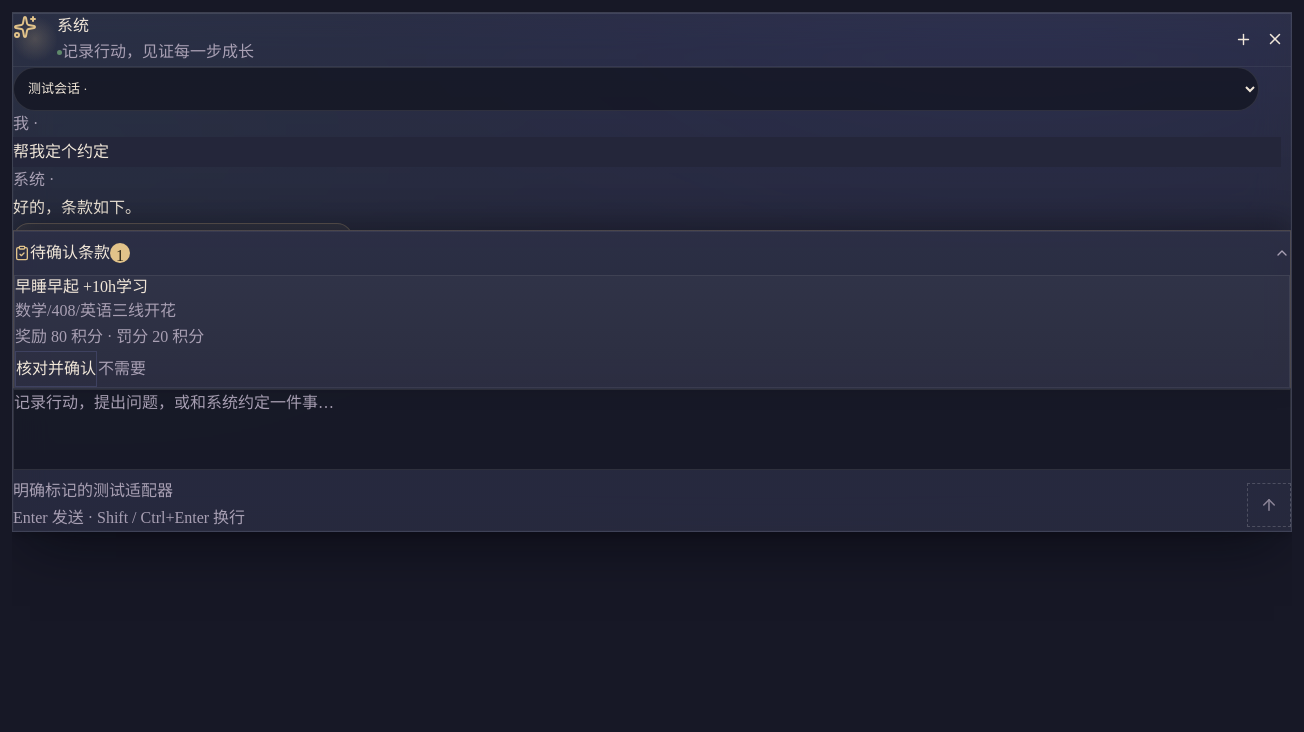
Test case: pending terms render once in the tray and only as a chip in chat
The width and height of the screenshot is (1304, 732).
Expected: the text "1" is shown, [110,243,130,263]
Expected: the number of buttons "核对并确认" is 1, [15,351,97,387]
Click the button "待确认条款 1". click: (70, 253)
box: [14,231,1290,275]
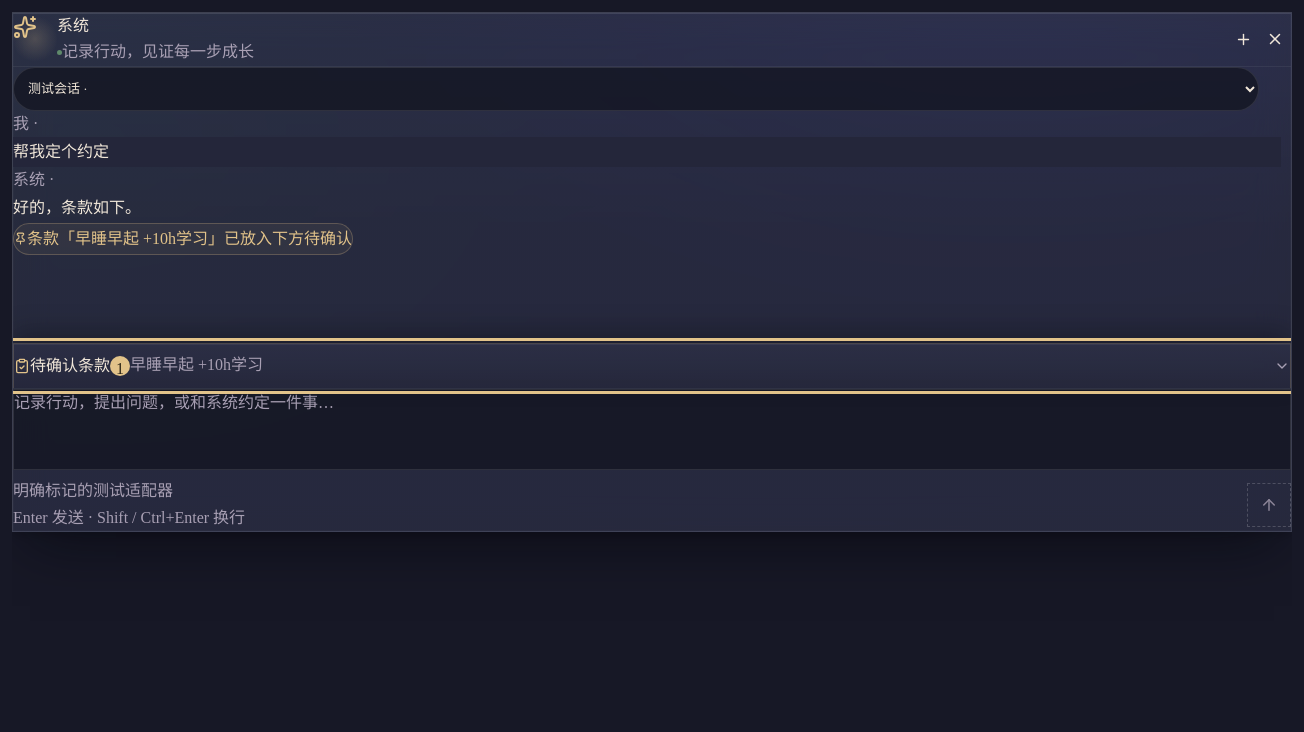
Now the button "核对并确认" is gone
